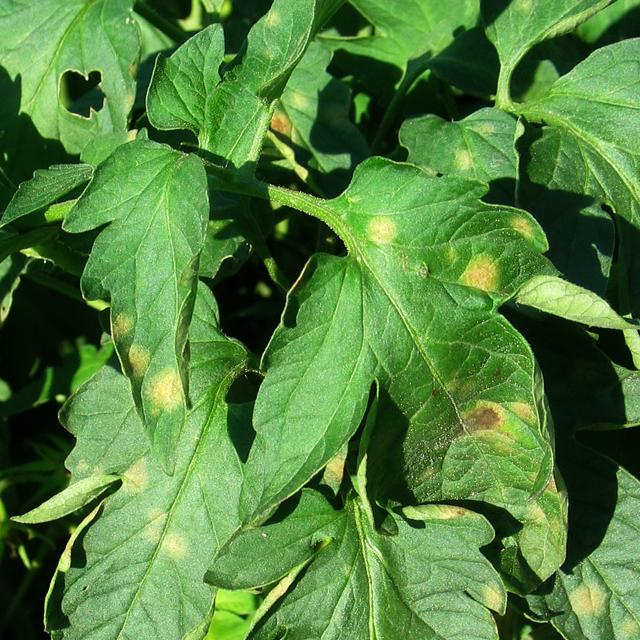Tomato mold leaf: (239, 141, 602, 564), (0, 328, 273, 640), (209, 501, 540, 640), (81, 137, 211, 478), (512, 451, 640, 640)
